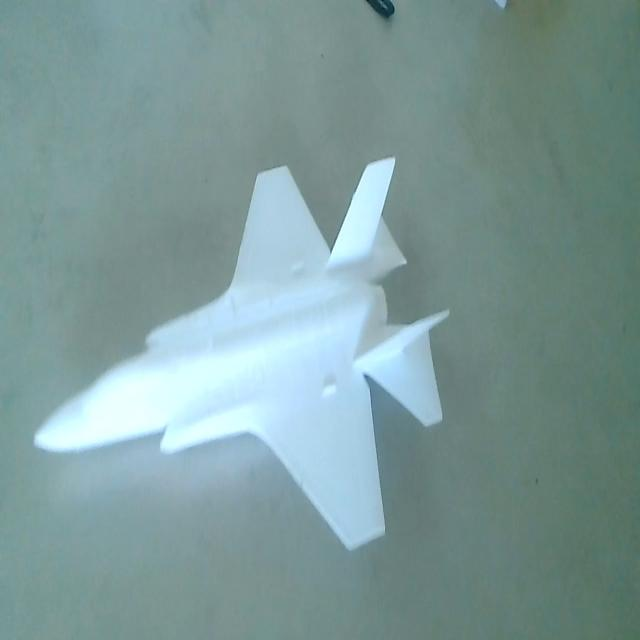Jet: (32, 148, 454, 554)
